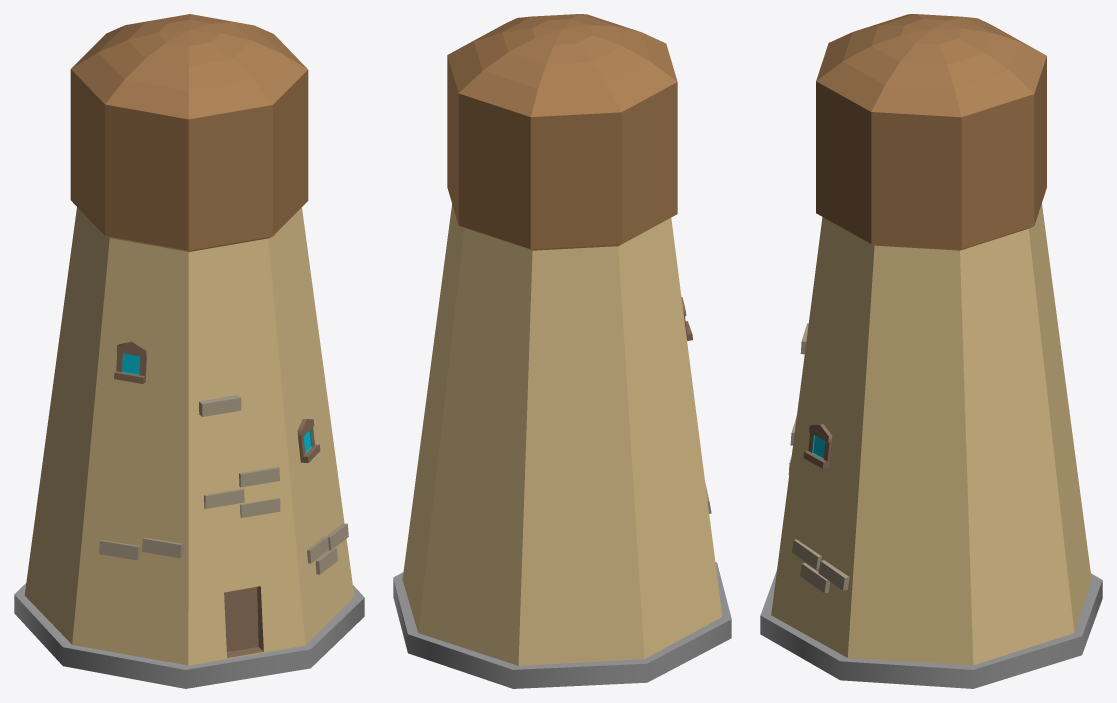
Rendered from windmill.dae.
3 views of the same model, side by side, from view 1: azimuth 30°, elevation 25°; view 2: azimuth 150°, elevation 25°; view 3: azimuth 270°, elevation 25° (orthographic).
Visible parts, largest first — view 1: Cylinder, Oil_Tank, Tube, Cube_12, Cube_4, Cube_8, Cube_7, Cube_5, Cube_6, Cube_3_3, Cube_4_2, Cube_4_3; view 2: Cylinder, Oil_Tank, Tube; view 3: Cylinder, Oil_Tank, Tube, Cube_4_2, Cube_10.
Part boxes in pixels (box(x1,y1,x2,y2)): Cylinder: box(24, 207, 354, 665); Oil_Tank: box(70, 14, 308, 251); Tube: box(14, 583, 364, 688); Cube_12: box(224, 586, 263, 657); Cube_4: box(114, 341, 147, 383); Cube_8: box(199, 395, 241, 416); Cube_7: box(142, 537, 183, 558); Cube_5: box(239, 466, 279, 487); Cube_6: box(99, 540, 139, 560); Cube_3_3: box(204, 488, 244, 508); Cube_4_2: box(297, 419, 320, 462); Cube_4_3: box(240, 498, 280, 517); Cylinder: box(402, 204, 722, 665); Oil_Tank: box(447, 14, 677, 250); Tube: box(393, 562, 731, 688); Cylinder: box(771, 203, 1091, 665); Oil_Tank: box(816, 14, 1046, 250); Tube: box(760, 570, 1102, 688); Cube_4_2: box(803, 424, 832, 468); Cube_10: box(818, 560, 849, 590).
Size of the model in its own units: 1.03 by 1.03 by 1.95.
